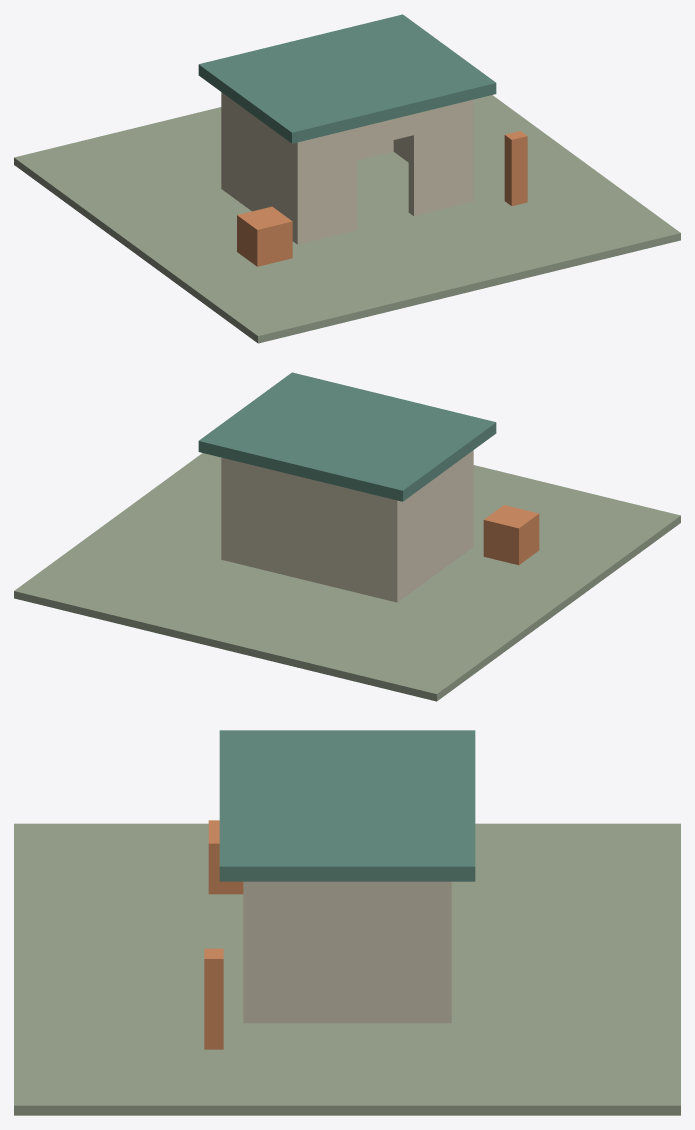
File: mcp-validation.glb
The picture shows the model from 3 angles, top to bottom: view 1: azimuth 30°, elevation 25°; view 2: azimuth 150°, elevation 25°; view 3: azimuth 270°, elevation 25°; orthographic projection. The views are drawn at different scales.
Visible parts, largest first — view 1: Ground 12m, Shading roof, Left door pier, Right door pier, Left wall, MCP Test Cube, Human height reference 1.8m, Door lintel 1.6m wide opening / 2.2m clear, Rear wall; view 2: Ground 12m, Shading roof, Rear wall, Left wall, MCP Test Cube; view 3: Ground 12m, Shading roof, Right wall, Rear wall, Right door pier, Human height reference 1.8m, MCP Test Cube.
Boxes of the visible parts, <box> form: Ground 12m: <box>14,95,680,343</box>; Shading roof: <box>198,14,496,143</box>; Left door pier: <box>292,128,357,244</box>; Right door pier: <box>408,99,473,215</box>; Left wall: <box>226,96,294,220</box>; MCP Test Cube: <box>237,206,292,266</box>; Human height reference 1.8m: <box>504,131,527,205</box>; Door lintel 1.6m wide opening / 2.2m clear: <box>357,114,413,148</box>; Rear wall: <box>221,92,393,191</box>; Ground 12m: <box>14,453,680,701</box>; Shading roof: <box>198,372,496,501</box>; Rear wall: <box>221,457,402,602</box>; Left wall: <box>400,452,471,598</box>; MCP Test Cube: <box>483,505,539,565</box>; Ground 12m: <box>14,823,680,1115</box>; Shading roof: <box>219,730,475,881</box>; Right wall: <box>250,881,444,1023</box>; Rear wall: <box>437,881,451,1023</box>; Right door pier: <box>243,881,257,1023</box>; Human height reference 1.8m: <box>204,948,223,1049</box>; MCP Test Cube: <box>208,820,243,894</box>.
Bounding box in the file's own units: 12 × 3.5 × 12.
